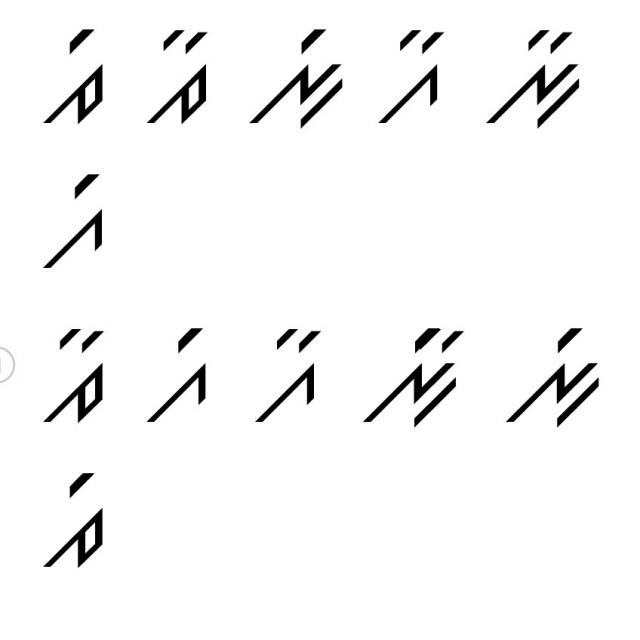gan: (373, 23, 451, 129), (252, 324, 326, 426)
gang: (35, 162, 110, 268), (146, 318, 212, 422)
ngan: (359, 320, 468, 434), (484, 28, 586, 128)
ngang: (503, 319, 612, 433), (242, 22, 347, 130)
tan: (41, 320, 112, 427), (146, 28, 218, 129)
tang: (34, 20, 114, 132), (40, 470, 112, 575)
